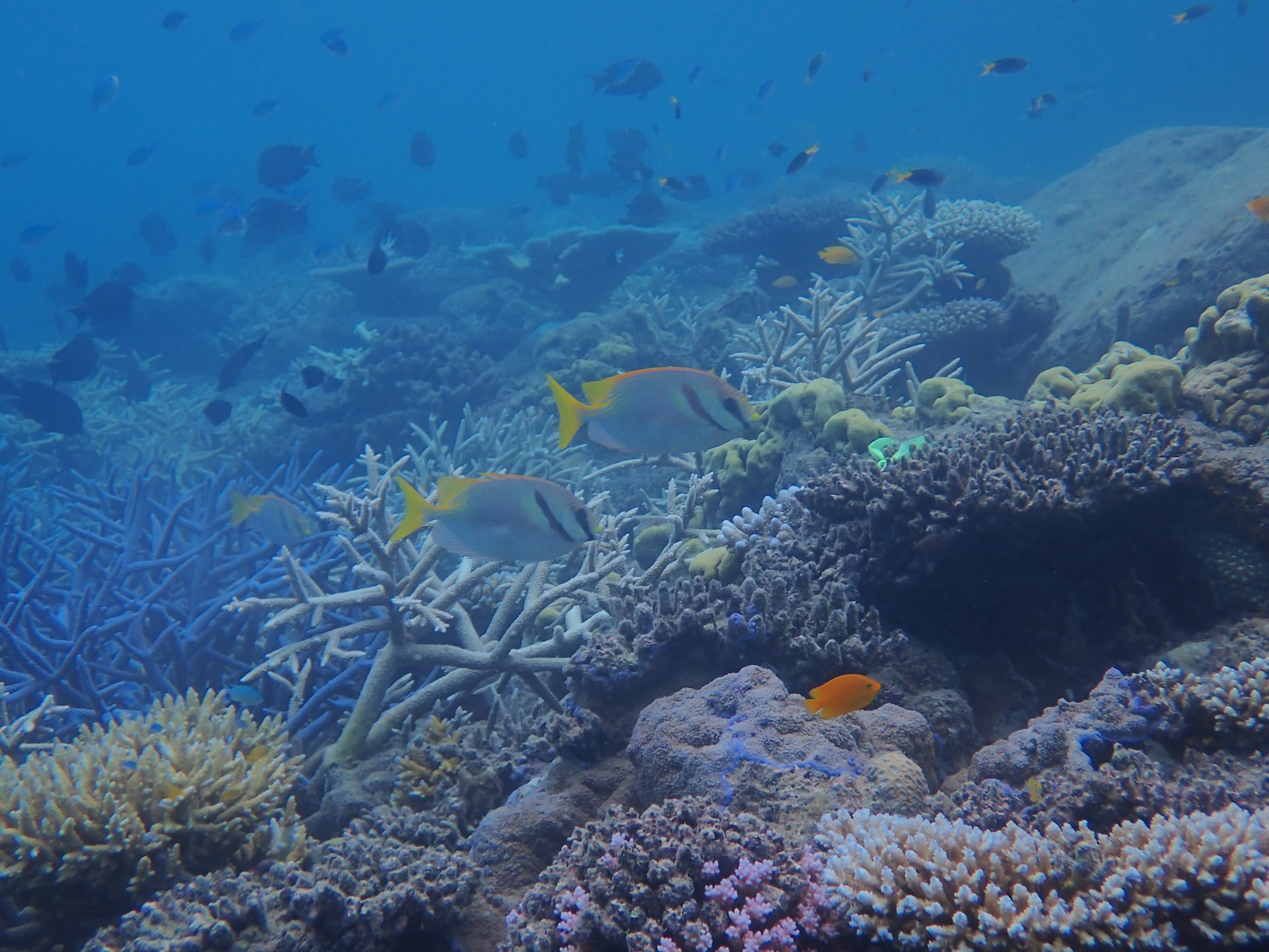fishbody: (548, 355, 766, 465), (388, 462, 607, 565)
fishhead: (679, 370, 761, 447), (531, 479, 603, 558)
